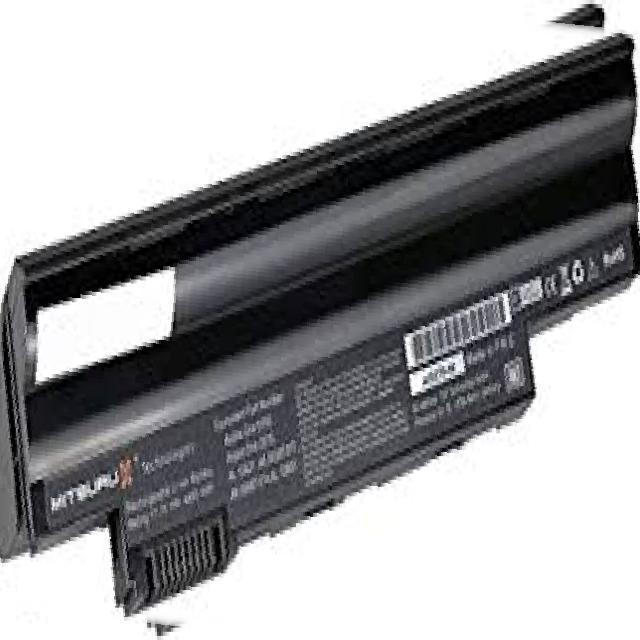Battery: (3, 33, 640, 619)
